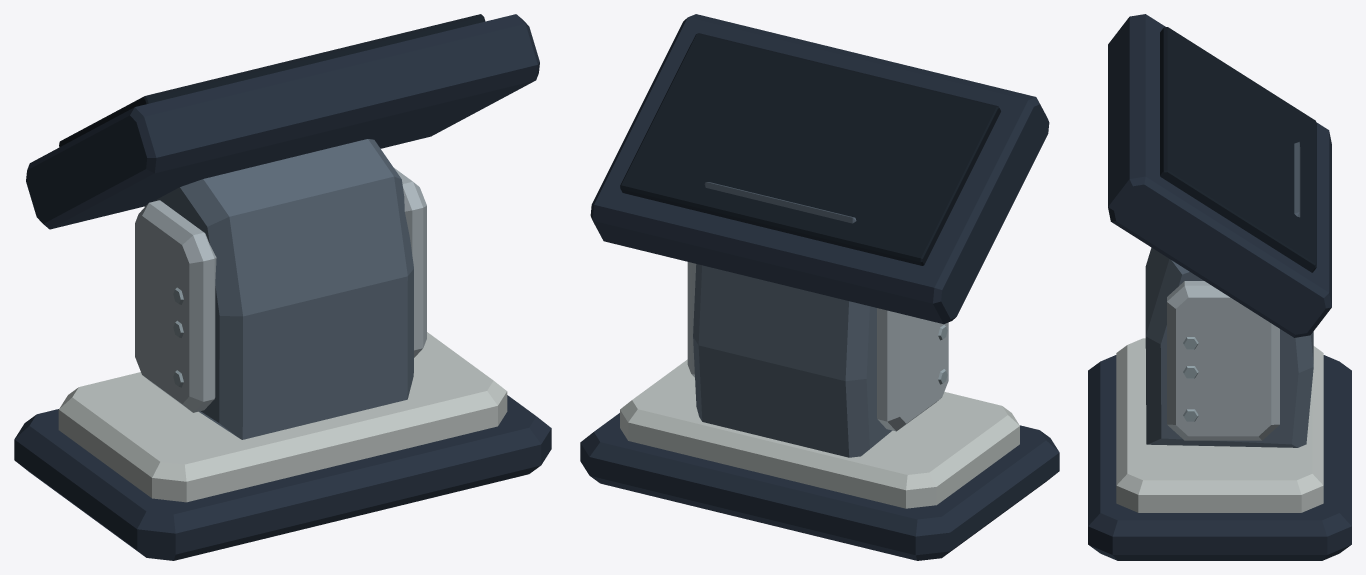
Rendered from field_terminal.glb.
3 views of the same model, side by side, from view 1: azimuth 30°, elevation 25°; view 2: azimuth 150°, elevation 25°; view 3: azimuth 270°, elevation 25° (orthographic). The views are drawn at different scales.
Parts seen in each view (by area): view 1: field_terminal; view 2: field_terminal; view 3: field_terminal.
Part boxes in pixels (x1,y1,x2,y2): field_terminal: (14, 14, 551, 560); field_terminal: (580, 14, 1059, 560); field_terminal: (1088, 14, 1351, 560).
Bounding box in the file's own units: 1.31 × 1.32 × 0.824.
